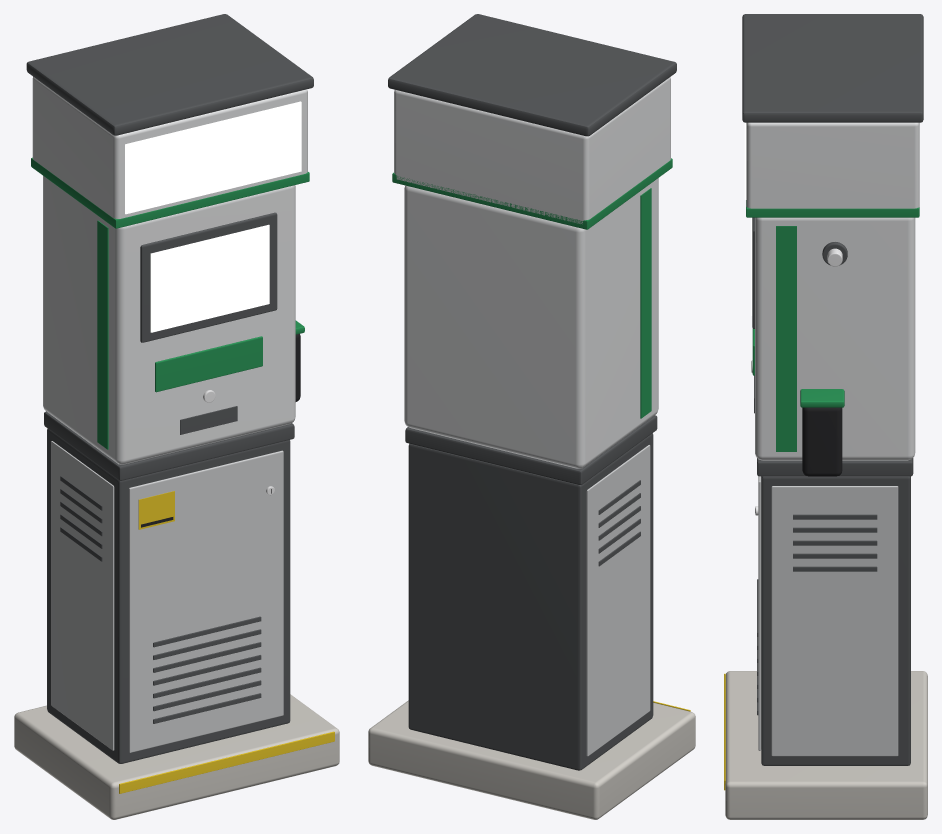
The model's file is petrol_pump.glb.
The picture shows the model from 3 angles, left to right: view 1: azimuth 30°, elevation 25°; view 2: azimuth 150°, elevation 25°; view 3: azimuth 270°, elevation 25°; orthographic projection.
Visible parts, largest first — view 1: SM_petrol_pump; view 2: SM_petrol_pump; view 3: SM_petrol_pump.
Part boxes in pixels (x1,y1,x2,y2): SM_petrol_pump: (14,14,339,819); SM_petrol_pump: (368,14,695,819); SM_petrol_pump: (724,14,927,819).
Size of the model in its own units: 0.6425 by 1.83 by 0.483.
